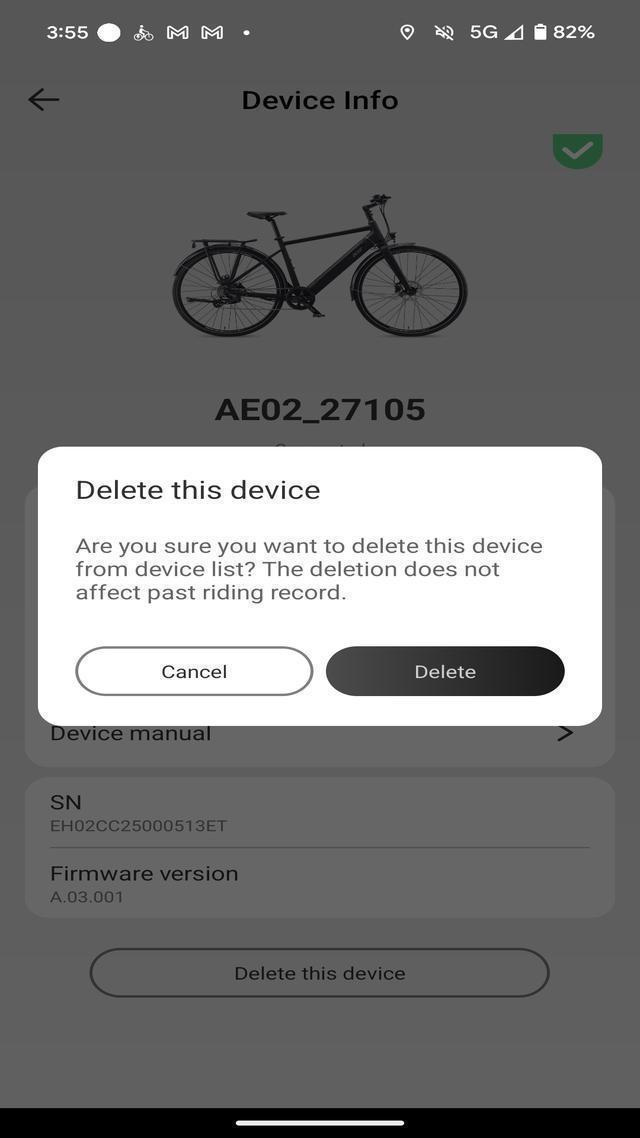Icon: (552, 130, 604, 170), (28, 87, 62, 121), (466, 18, 501, 42), (160, 22, 192, 46), (95, 19, 124, 44), (197, 23, 227, 45), (430, 21, 458, 43), (131, 20, 154, 46), (505, 22, 525, 42), (398, 20, 413, 44), (534, 23, 548, 45), (241, 25, 252, 42)
Image: (151, 184, 486, 346)
Text: (64, 467, 342, 515), (70, 529, 550, 556), (209, 380, 438, 432), (70, 557, 508, 581), (74, 582, 362, 614), (34, 858, 246, 886), (220, 960, 414, 990), (238, 83, 401, 116), (44, 812, 234, 840), (398, 657, 492, 687), (140, 657, 244, 684), (42, 886, 132, 910), (34, 786, 96, 814), (36, 20, 90, 46), (552, 20, 600, 46)
TextButton: (83, 942, 554, 1002), (322, 644, 564, 700), (73, 646, 318, 700)
